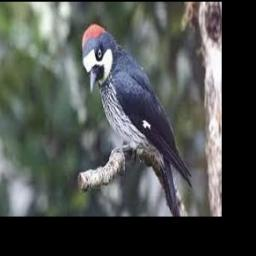Woodpecker: (83, 21, 193, 217)
